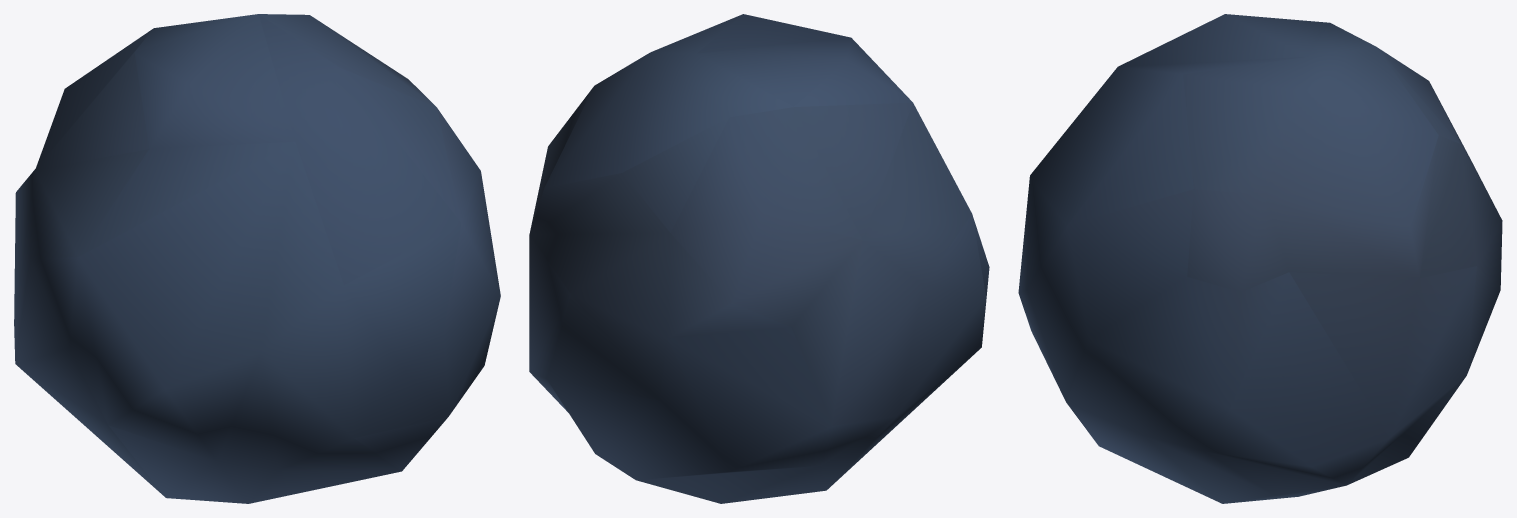
File: space-asteroids-asteroid_v10.glb
3 renders of one model, left to right at view 1: azimuth 30°, elevation 25°; view 2: azimuth 150°, elevation 25°; view 3: azimuth 270°, elevation 25°, orthographic. The views are drawn at different scales.
Visible parts, largest first — view 1: Asteroid_v10; view 2: Asteroid_v10; view 3: Asteroid_v10.
Boxes of the visible parts, <box> form: Asteroid_v10: <box>14,14,500,503</box>; Asteroid_v10: <box>529,14,989,503</box>; Asteroid_v10: <box>1018,14,1502,503</box>.
Bounding box in the file's own units: 492 × 500 × 499.
